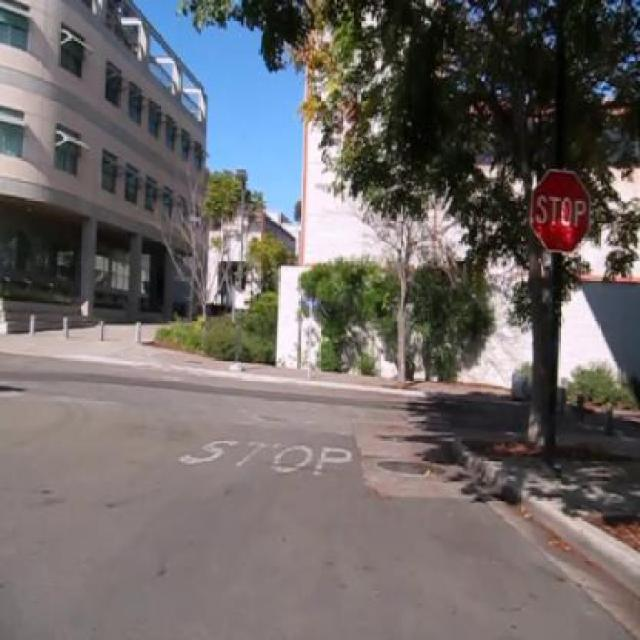stop: (529, 168, 592, 253)
